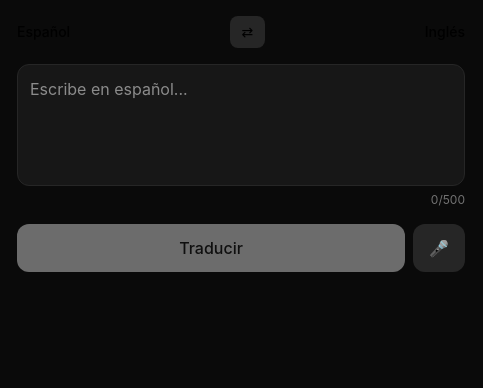
Test: TranslatePage (texto) › un error del servicio se muestra y no deja traducción vieja en pantalla
The width and height of the screenshot is (483, 388).
Type "a" into the text box named "Texto a traducir". click: (241, 125)
box: [17,64,465,186]
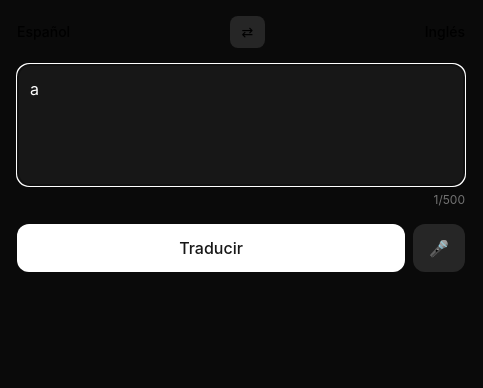
Click the button "Traducir". click: (211, 248)
box: [17,224,405,272]
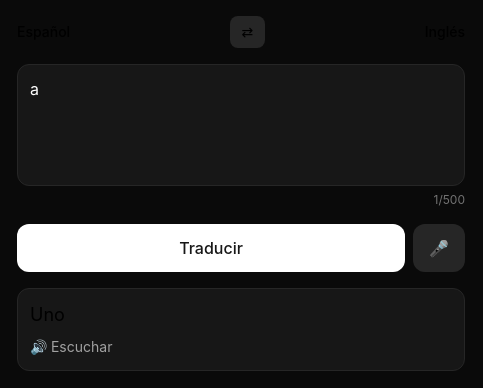
Click the button "Traducir". click: (211, 248)
box: [17,224,405,272]
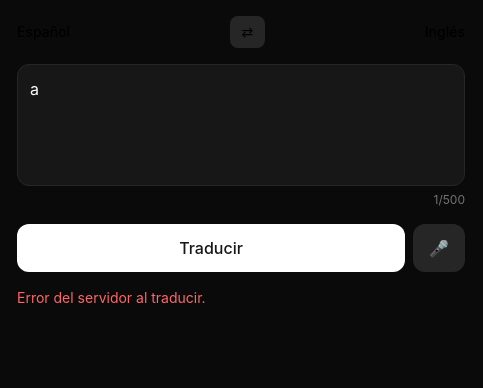
Result: the message reads "Error del servidor al traducir." at [17,289,206,306]
Result: the text labelled "Traducción" is gone
